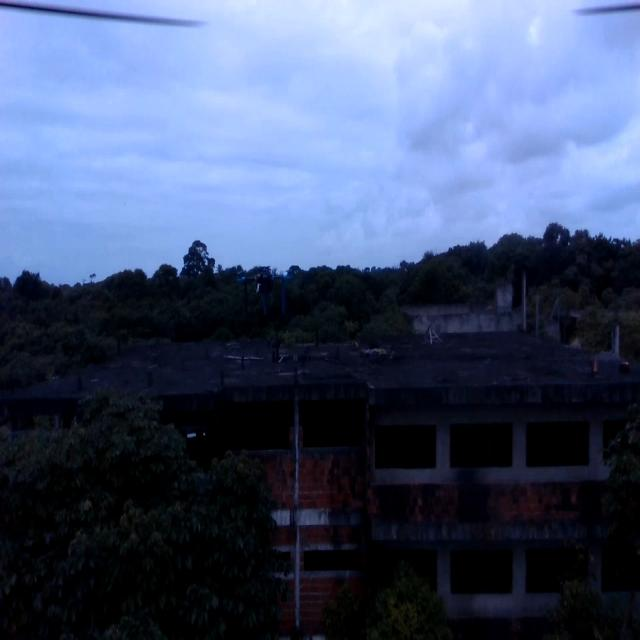-uav-: (232, 255, 294, 329)
